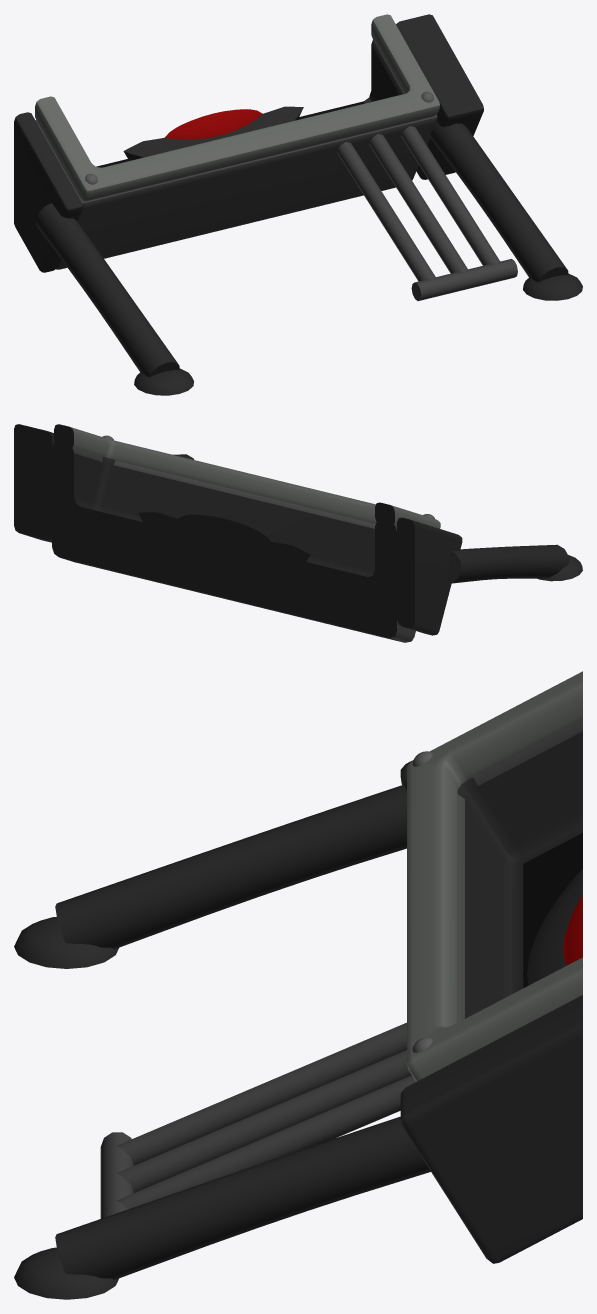
The model's file is cliff_bunker_base_197.glb.
3 renders of one model, top to bottom at view 1: azimuth 30°, elevation 25°; view 2: azimuth 150°, elevation 25°; view 3: azimuth 270°, elevation 25°, orthographic. The views are drawn at different scales.
Visible parts, largest first — view 1: box.001, frame.001, leg0.001, leg1.001, bracket0.001, bracket1.001, grille_bar0.001, grille_bar1.001, grille_bar2.001, grille_rail2.001, eye_socket.001, eye.001 (+2 smaller); view 2: box.001, frame.001, bracket0.001, bracket1.001, leg0.001, eye.001, eye_socket.001, leg_pad0.001; view 3: bracket1.001, frame.001, box.001, leg1.001, leg0.001, grille_bar1.001, grille_bar0.001, grille_bar2.001, leg_pad1.001, leg_pad0.001, eye_socket.001, grille_rail2.001 (+1 smaller).
Boxes of the visible parts, x1,y1,x2,y2 form: box.001: (35, 40, 437, 269); frame.001: (35, 14, 439, 201); leg0.001: (35, 203, 179, 377); leg1.001: (430, 122, 568, 282); bracket0.001: (14, 112, 82, 272); bracket1.001: (396, 14, 483, 179); grille_bar0.001: (336, 142, 435, 281); grille_bar1.001: (369, 134, 467, 273); grille_bar2.001: (401, 126, 499, 265); grille_rail2.001: (411, 259, 517, 300); eye_socket.001: (123, 106, 303, 159); eye.001: (165, 109, 262, 139); box.001: (52, 441, 415, 642); frame.001: (54, 424, 440, 528); bracket0.001: (397, 517, 462, 635); bracket1.001: (14, 424, 54, 542); leg0.001: (445, 544, 569, 583); eye.001: (176, 514, 272, 551); eye_socket.001: (139, 512, 310, 562); leg_pad0.001: (537, 555, 582, 581); bracket1.001: (400, 995, 582, 1263); frame.001: (407, 671, 582, 1081); box.001: (457, 720, 582, 1022); leg1.001: (55, 1116, 430, 1279); leg0.001: (55, 785, 406, 949); grille_bar1.001: (116, 1050, 411, 1192); grille_bar0.001: (116, 1022, 406, 1165); grille_bar2.001: (116, 1075, 415, 1209); leg_pad1.001: (14, 1247, 118, 1299); leg_pad0.001: (14, 917, 118, 968); eye_socket.001: (527, 868, 582, 985); grille_rail2.001: (100, 1132, 134, 1218).
Bounding box in the file's own units: 21.15 × 7.72 × 13.45.
